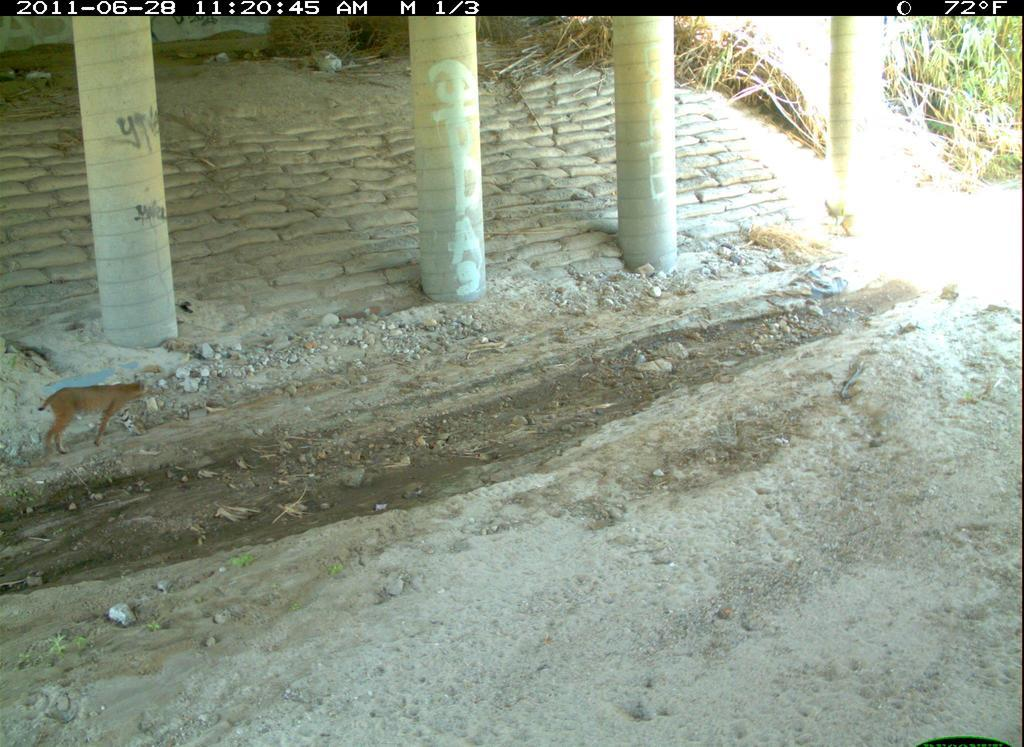bobcat: (65, 742, 315, 747)
